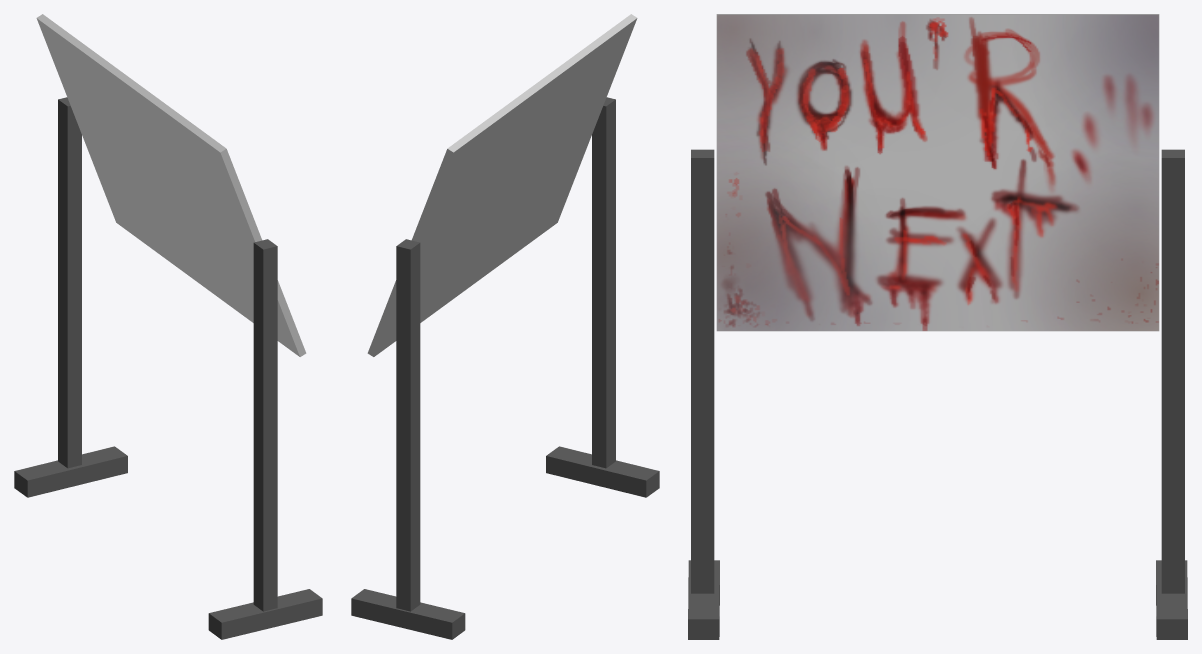
The model's file is Board.glb.
The picture shows the model from 3 angles, left to right: view 1: azimuth 30°, elevation 25°; view 2: azimuth 150°, elevation 25°; view 3: azimuth 270°, elevation 25°; orthographic projection. The views are drawn at different scales.
Parts seen in each view (by area): view 1: Cube, Cube.001; view 2: Cube, Cube.001; view 3: Cube, Cube.001.
Part boxes in pixels (left/top/right/bottom): Cube: left=36, top=14, right=306, bottom=356; Cube.001: left=14, top=97, right=322, bottom=639; Cube: left=367, top=14, right=637, bottom=356; Cube.001: left=351, top=97, right=659, bottom=639; Cube: left=716, top=14, right=1159, bottom=331; Cube.001: left=688, top=149, right=1187, bottom=639.
Size of the model in its own units: 0.9409 by 4.28 by 3.36.
Materials: 2 (1 with a texture image).
